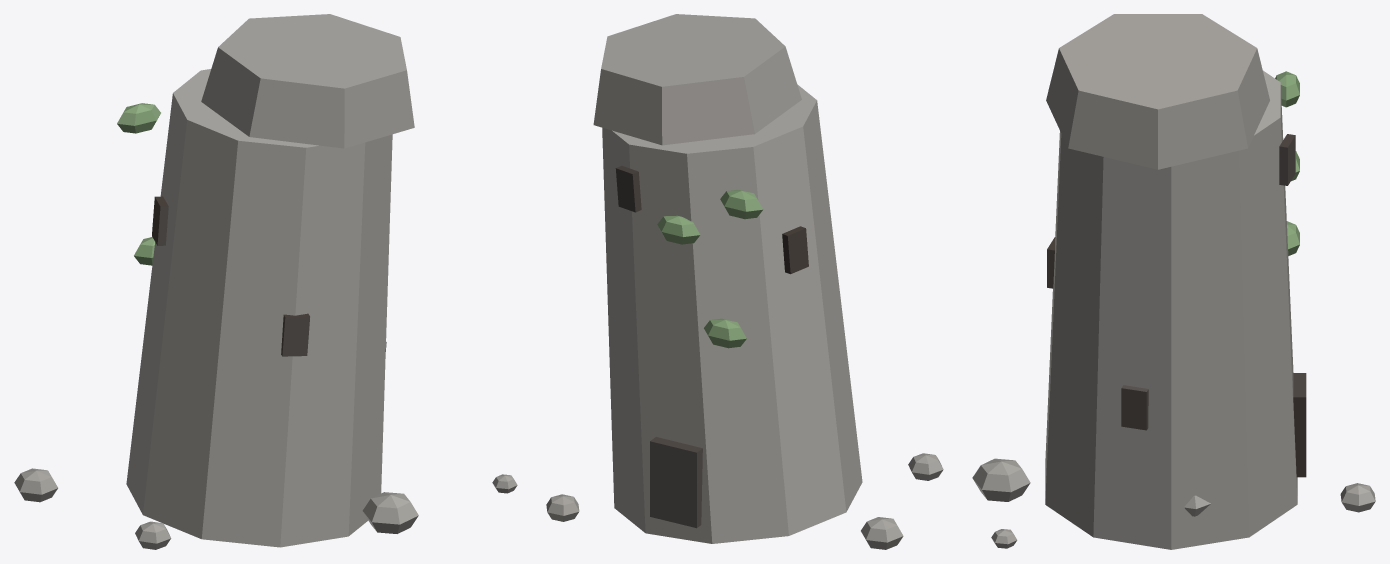
Rendered from ruined_tower.glb.
3 views of the same model, side by side, from view 1: azimuth 30°, elevation 25°; view 2: azimuth 150°, elevation 25°; view 3: azimuth 270°, elevation 25° (orthographic). The views are drawn at different scales.
Parts seen in each view (by area): view 1: ruined_tower2; view 2: ruined_tower2; view 3: ruined_tower2.
Boxes of the visible parts, left/top/right/bottom form: ruined_tower2: left=14, top=14, right=517, bottom=549; ruined_tower2: left=546, top=14, right=943, bottom=549; ruined_tower2: left=972, top=14, right=1375, bottom=549.
Size of the model in its own units: 10.36 by 11.72 by 9.12.
